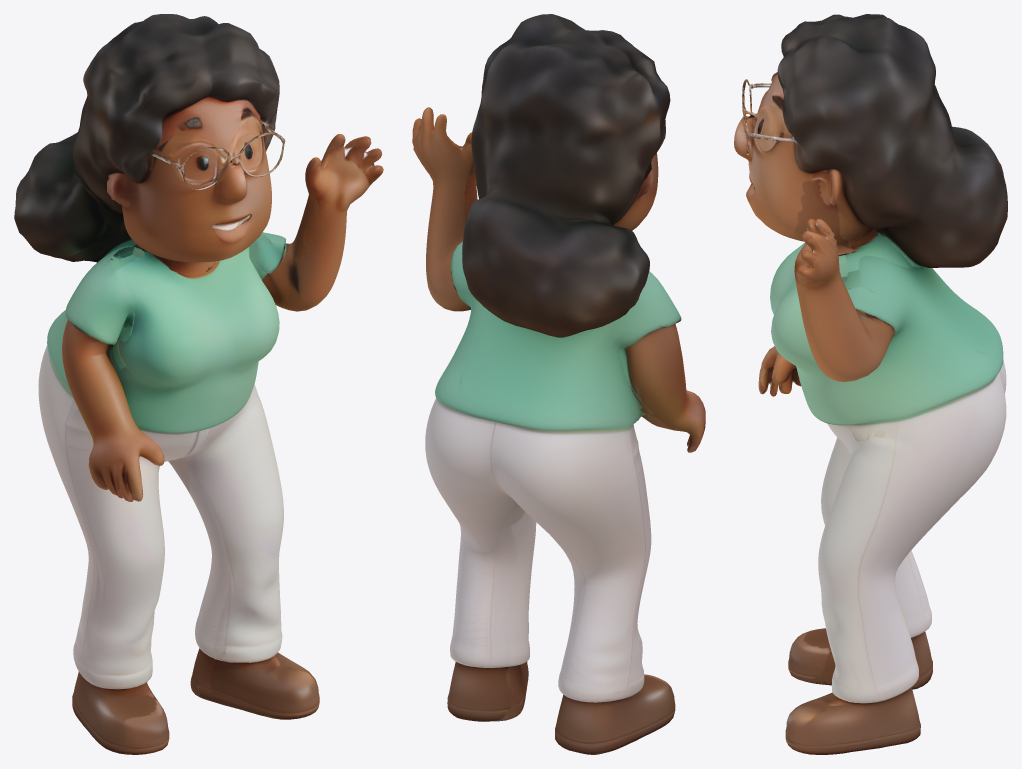
Rendered from PersonaEscaleraEscuela.glb.
3 views of the same model, side by side, from view 1: azimuth 30°, elevation 25°; view 2: azimuth 150°, elevation 25°; view 3: azimuth 270°, elevation 25° (orthographic).
Visible parts, largest first — view 1: model; view 2: model; view 3: model.
Boxes of the visible parts, bbox=[...] form: model: bbox=[14, 14, 383, 754]; model: bbox=[412, 14, 705, 754]; model: bbox=[734, 14, 1007, 754].
Size of the model in its own units: 0.8445 by 1.9 by 0.6949.
1 material, 1 textured.
